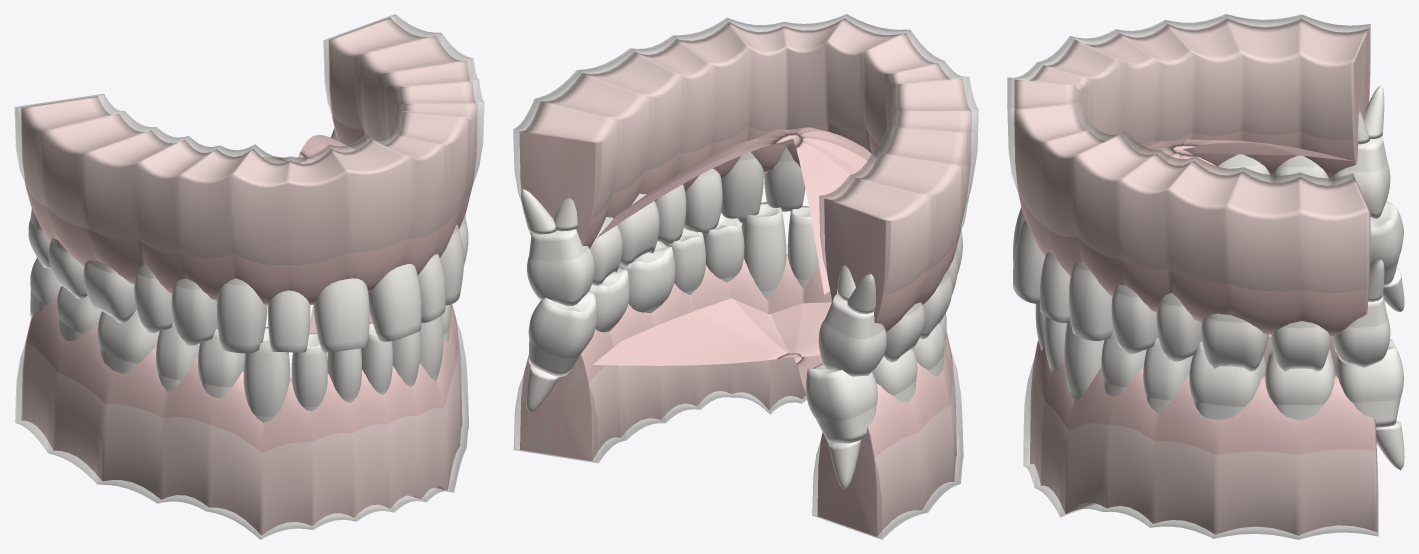
File: dental_template.glb
The picture shows the model from 3 angles, left to right: view 1: azimuth 30°, elevation 25°; view 2: azimuth 150°, elevation 25°; view 3: azimuth 270°, elevation 25°; orthographic projection. The views are drawn at different scales.
Parts seen in each view (by area): view 1: gingiva_upper, bone_upper, gingiva_lower, bone_lower, tooth_11, tooth_21, tooth_13, tooth_43, tooth_46, tooth_14, tooth_12, tooth_16 (+15 smaller); view 2: gingiva_upper, bone_upper, gingiva_lower, bone_lower, floor_lower, palate_upper, tooth_28, tooth_48, tooth_18, tooth_38, tooth_33, tooth_36 (+14 smaller); view 3: gingiva_upper, bone_upper, gingiva_lower, bone_lower, tooth_38, tooth_36, tooth_18, tooth_28, tooth_37, tooth_26, palate_upper, tooth_23 (+12 smaller).
Boxes of the visible parts, x1,y1,x2,y2 form: gingiva_upper: [21, 17, 477, 305]; bone_upper: [14, 14, 484, 264]; gingiva_lower: [21, 297, 462, 535]; bone_lower: [15, 322, 468, 539]; tooth_11: [313, 278, 369, 352]; tooth_21: [368, 264, 421, 341]; tooth_13: [216, 278, 267, 353]; tooth_43: [243, 327, 290, 422]; tooth_46: [97, 309, 159, 373]; tooth_14: [171, 278, 217, 345]; tooth_12: [268, 290, 310, 352]; tooth_16: [83, 260, 136, 323]; gingiva_upper: [519, 18, 971, 332]; bone_upper: [513, 14, 978, 295]; gingiva_lower: [520, 255, 956, 536]; bone_lower: [513, 353, 963, 539]; floor_lower: [593, 298, 831, 392]; palate_upper: [596, 127, 876, 294]; tooth_28: [521, 189, 594, 305]; tooth_48: [806, 363, 877, 489]; tooth_18: [818, 265, 886, 376]; tooth_38: [526, 290, 597, 412]; tooth_33: [741, 202, 786, 300]; tooth_36: [619, 241, 675, 312]; gingiva_upper: [1014, 18, 1369, 336]; bone_upper: [1007, 14, 1370, 292]; gingiva_lower: [1030, 336, 1377, 535]; bone_lower: [1023, 336, 1378, 539]; tooth_38: [1335, 339, 1404, 470]; tooth_36: [1189, 341, 1265, 419]; tooth_18: [1331, 85, 1390, 218]; tooth_28: [1332, 259, 1390, 367]; tooth_37: [1265, 347, 1334, 420]; tooth_26: [1201, 313, 1269, 371]; palate_upper: [1136, 139, 1353, 174]; tooth_23: [1069, 262, 1113, 340].
Bounding box in the file's own units: 69.06 × 60 × 57.45.
